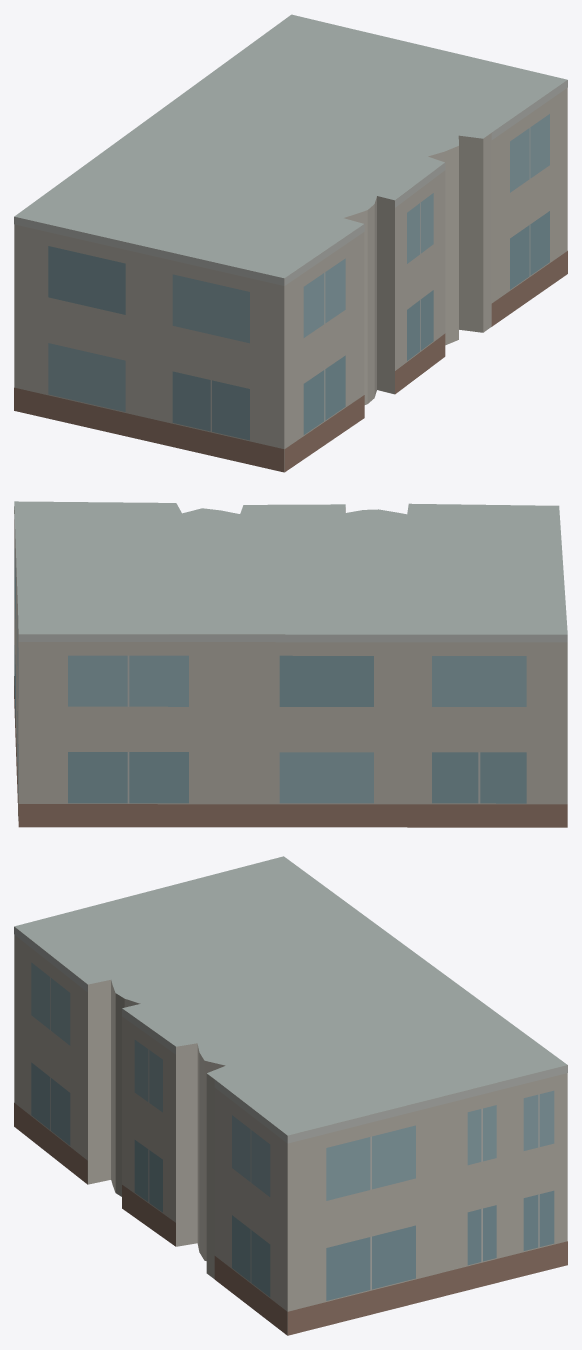
File: survey-upis-32988815.glb
3 renders of one model, top to bottom at view 1: azimuth 30°, elevation 25°; view 2: azimuth 150°, elevation 25°; view 3: azimuth 270°, elevation 25°, orthographic. The views are drawn at different scales.
Visible parts, largest first — view 1: survey-upis-32988815.tmp; view 2: survey-upis-32988815.tmp; view 3: survey-upis-32988815.tmp.
Boxes of the visible parts, box(x1,y1,x2,y2) form: survey-upis-32988815.tmp: box(14, 14, 567, 472); survey-upis-32988815.tmp: box(14, 501, 567, 827); survey-upis-32988815.tmp: box(14, 856, 567, 1335).
Bounding box in the file's own units: 18.28 × 6.1 × 15.31.
